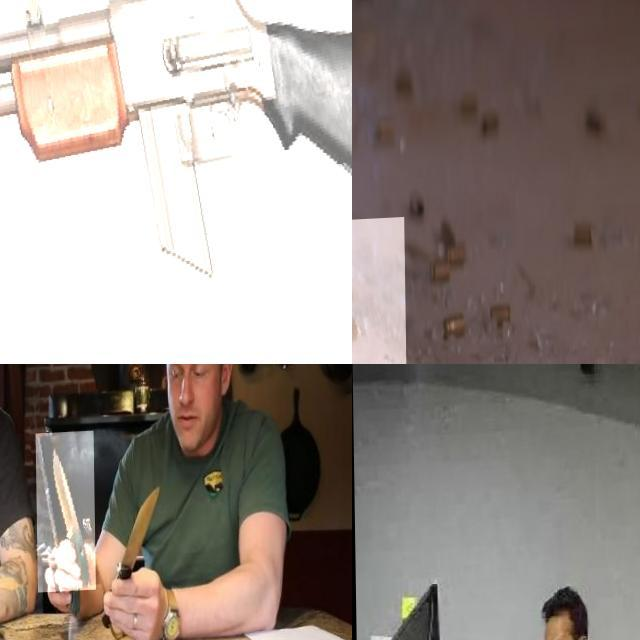-: (97, 482, 169, 624), (34, 434, 94, 596)
gun-knife-thesis - v11 Yolov5 augmented: (0, 0, 352, 364), (352, 221, 500, 364)
